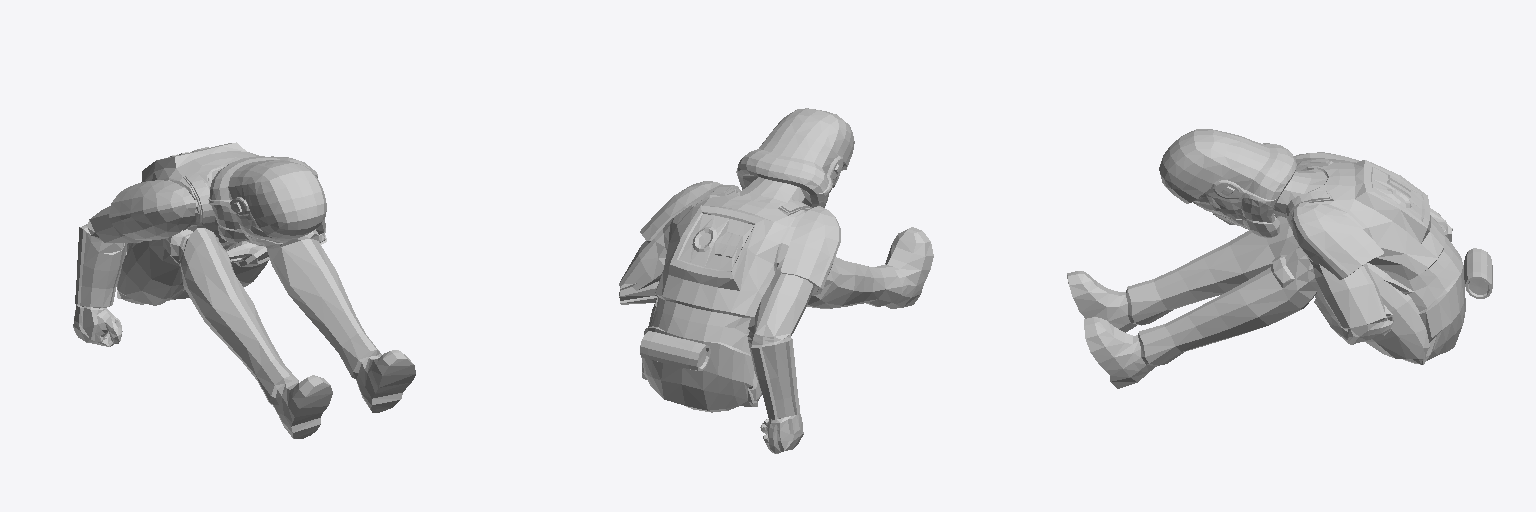
The model's file is Move_000255.obj.
The picture shows the model from 3 angles: view 1: azimuth 30°, elevation 25°; view 2: azimuth 150°, elevation 25°; view 3: azimuth 270°, elevation 25°; orthographic projection.
Bounding box in the file's own units: 1.37 × 1.46 × 2.39.